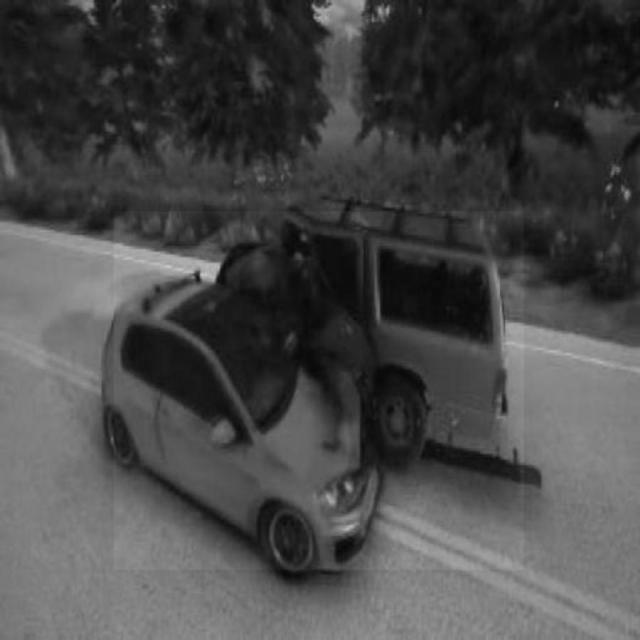accident: (115, 211, 525, 569)
